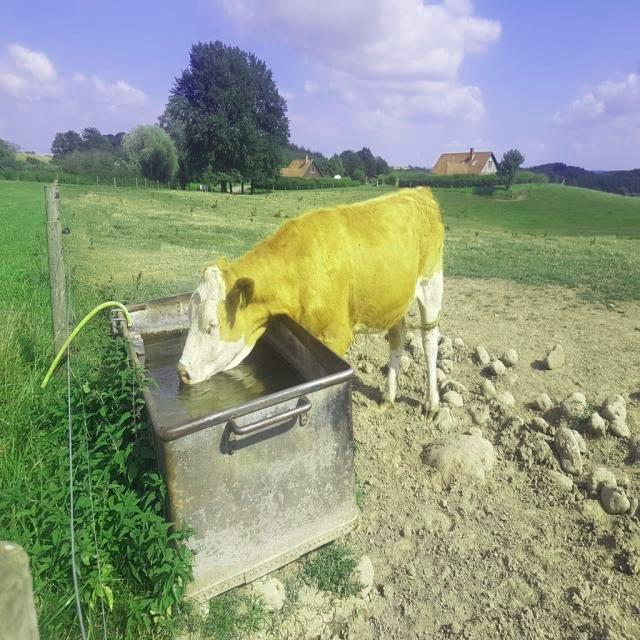cow: (178, 189, 444, 416)
